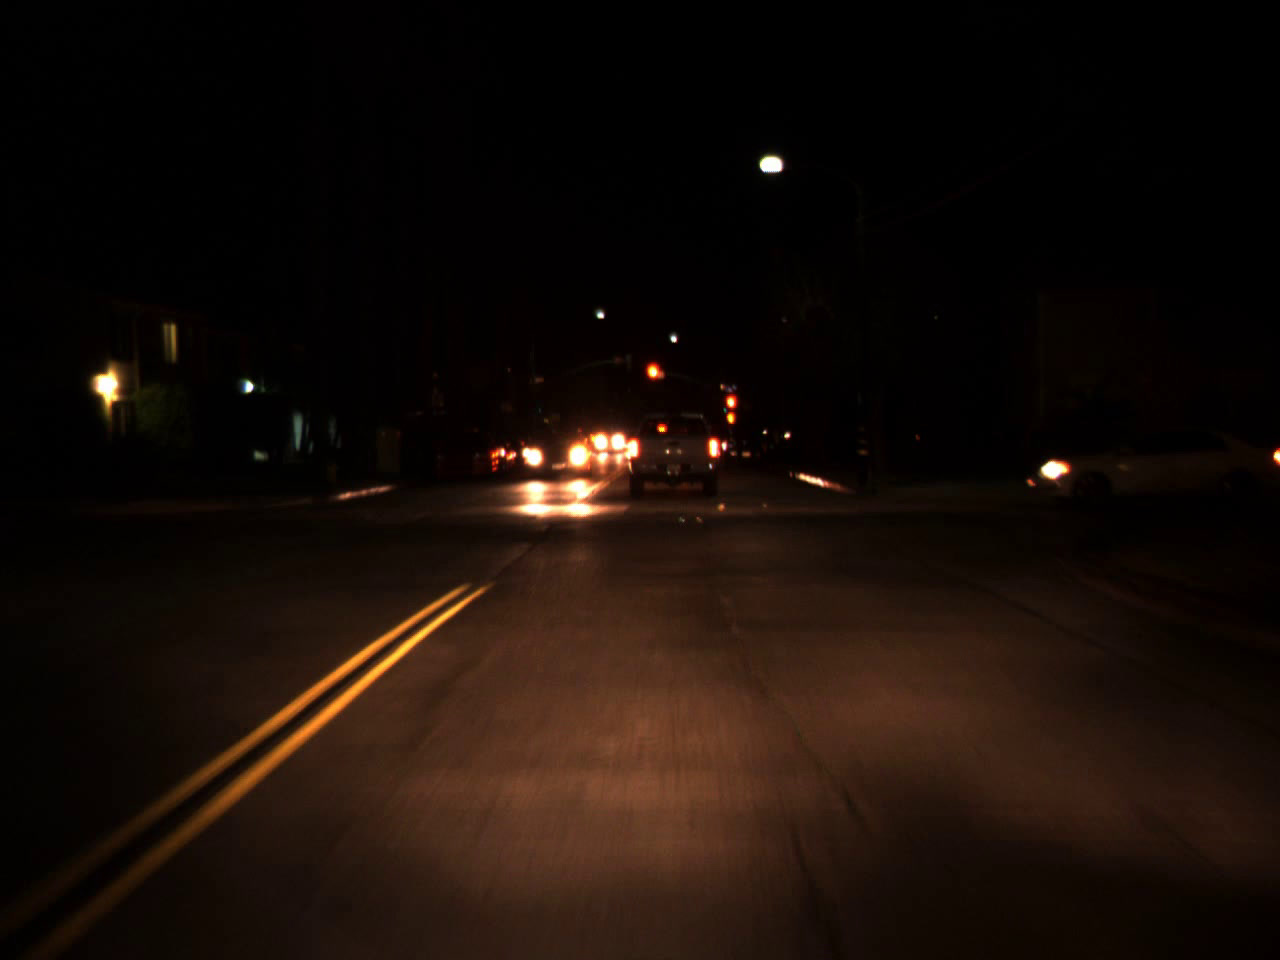stop: (643, 360, 665, 397), (724, 393, 737, 425)
